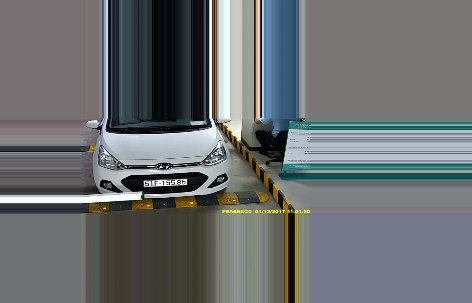plate: (145, 175, 189, 187)
